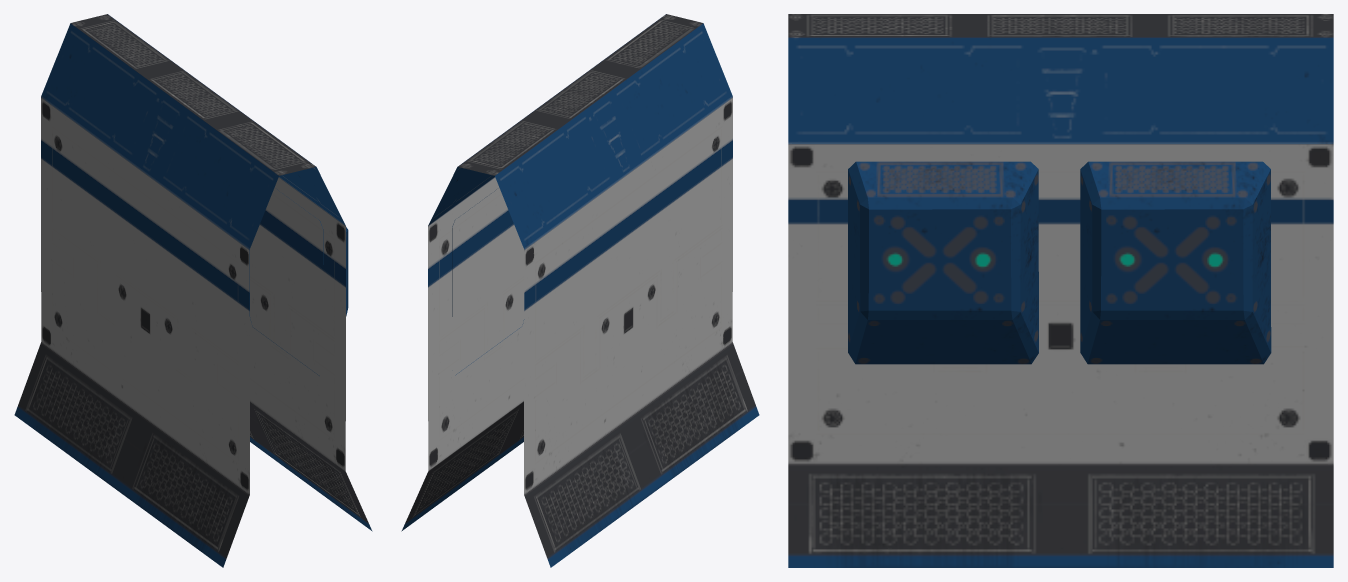
The model's file is Wall_3_Sci_Fi.fbx.
The picture shows the model from 3 angles, left to right: view 1: azimuth 30°, elevation 25°; view 2: azimuth 150°, elevation 25°; view 3: azimuth 270°, elevation 25°; orthographic projection. The views are drawn at different scales.
Visible parts, largest first — view 1: Sci_Fi_wall_3; view 2: Sci_Fi_wall_3; view 3: Sci_Fi_wall_3.
Part boxes in pixels (left/top/right/bottom): Sci_Fi_wall_3: left=14, top=14, right=372, bottom=567; Sci_Fi_wall_3: left=401, top=14, right=759, bottom=567; Sci_Fi_wall_3: left=788, top=14, right=1333, bottom=567.
Size of the model in its own units: 170 by 395 by 395.
